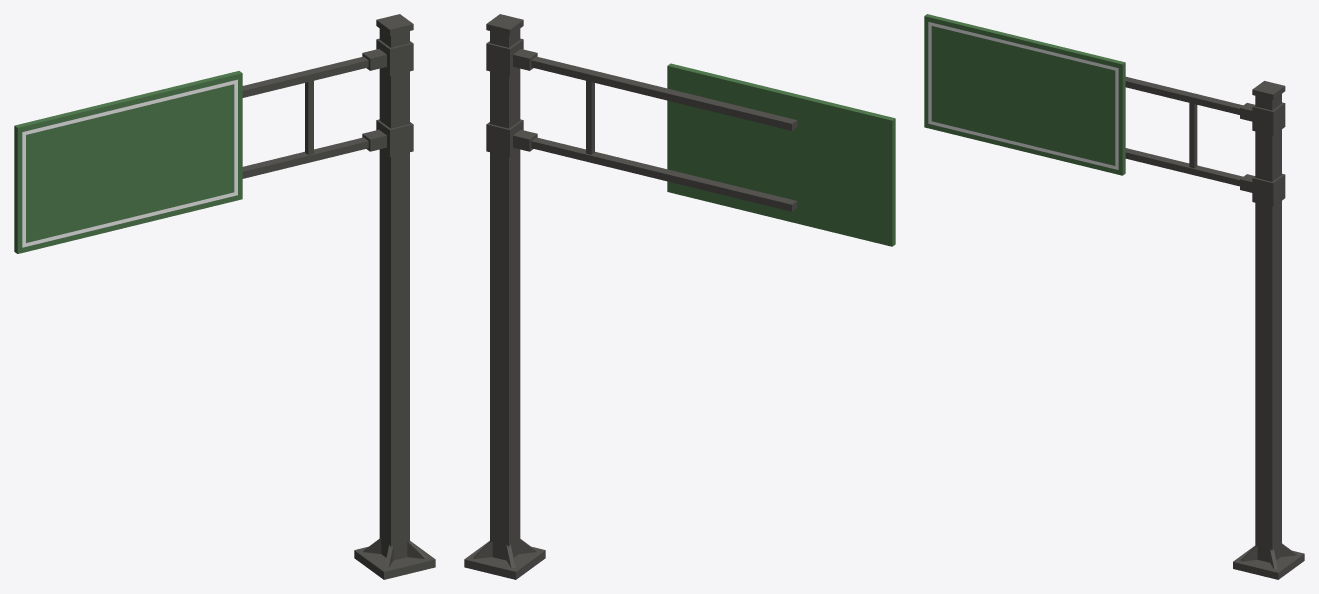
Rendered from Big_Road_Sing_2.fbx.
3 renders of one model, left to right at view 1: azimuth 30°, elevation 25°; view 2: azimuth 150°, elevation 25°; view 3: azimuth 330°, elevation 25°, orthographic. The views are drawn at different scales.
Visible parts, largest first — view 1: Big_Road_Sing_2; view 2: Big_Road_Sing_2; view 3: Big_Road_Sing_2.
Boxes of the visible parts, bbox=[...] form: Big_Road_Sing_2: bbox=[14, 14, 435, 579]; Big_Road_Sing_2: bbox=[464, 14, 895, 579]; Big_Road_Sing_2: bbox=[924, 14, 1304, 579].
Size of the model in its own units: 550 by 694 by 69.38.
1 material, 1 textured.
